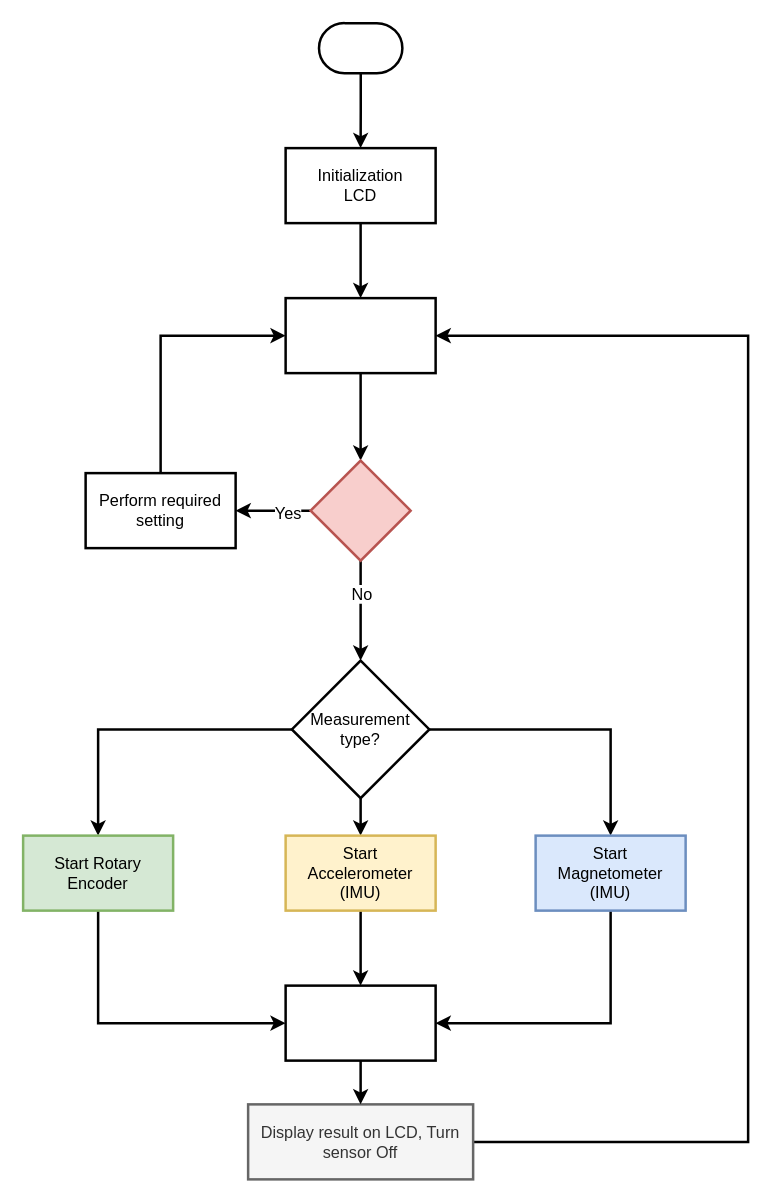
The diagram is 780 pixels wide and 1201 high, and some of its shapes have lost their labels. Each missing label, with the box of its shape:
Measure: (284, 984, 436, 1061)
Menu select: (284, 296, 436, 374)
Setting?: (309, 459, 411, 561)
Start: (317, 21, 403, 74)
